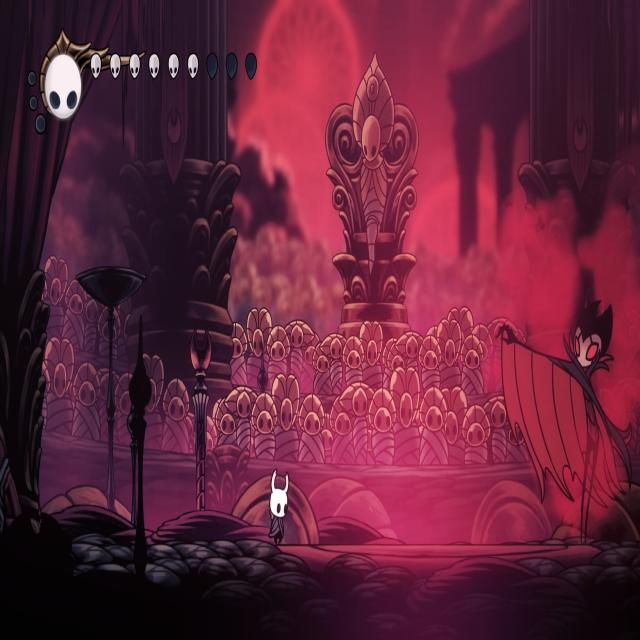Open Cloak: (491, 292, 634, 549)
Player: (267, 462, 289, 549)
